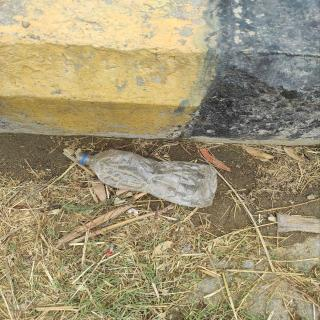Plastic-bottle: (74, 147, 221, 211)
